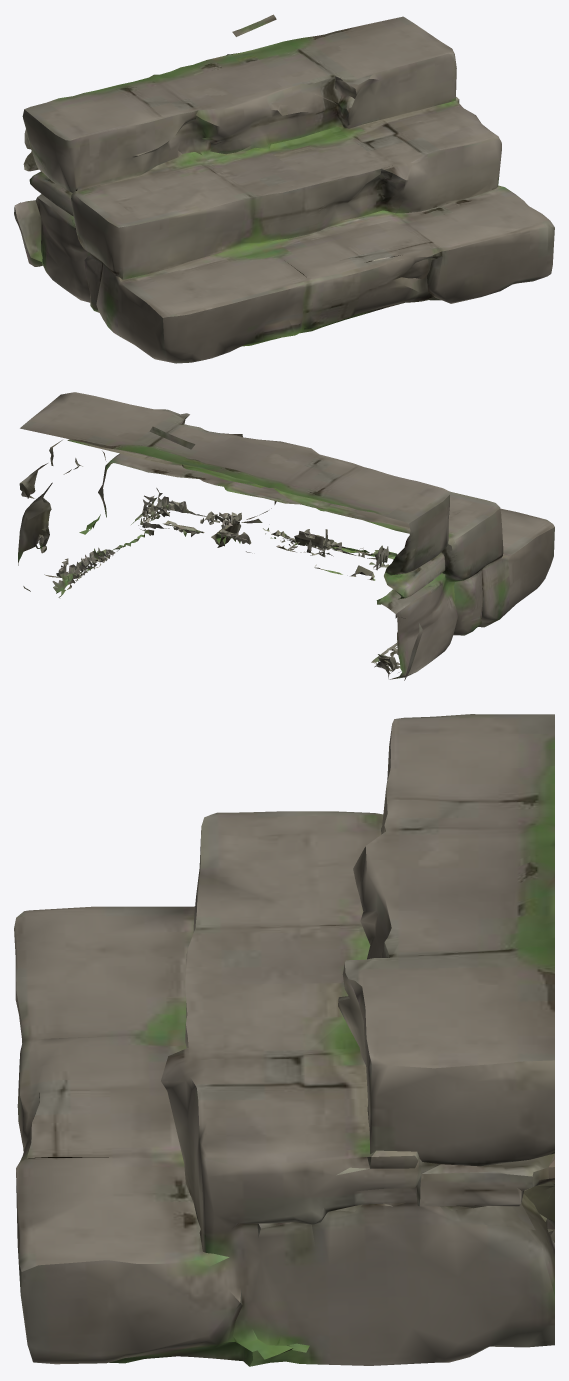
Rendered from StairsStoneShort.glb.
The picture shows the model from 3 angles, top to bottom: view 1: azimuth 30°, elevation 25°; view 2: azimuth 150°, elevation 25°; view 3: azimuth 270°, elevation 25°; orthographic projection. The views are drawn at different scales.
Parts seen in each view (by area): view 1: StairsStoneShort; view 2: StairsStoneShort; view 3: StairsStoneShort.
Part boxes in pixels (box(x1,y1,x2,y2)): StairsStoneShort: box(14, 14, 554, 363); StairsStoneShort: box(18, 392, 554, 680); StairsStoneShort: box(14, 714, 554, 1366).
Size of the model in its own units: 1.64 by 0.7876 by 1.02.
1 material, 1 textured.
